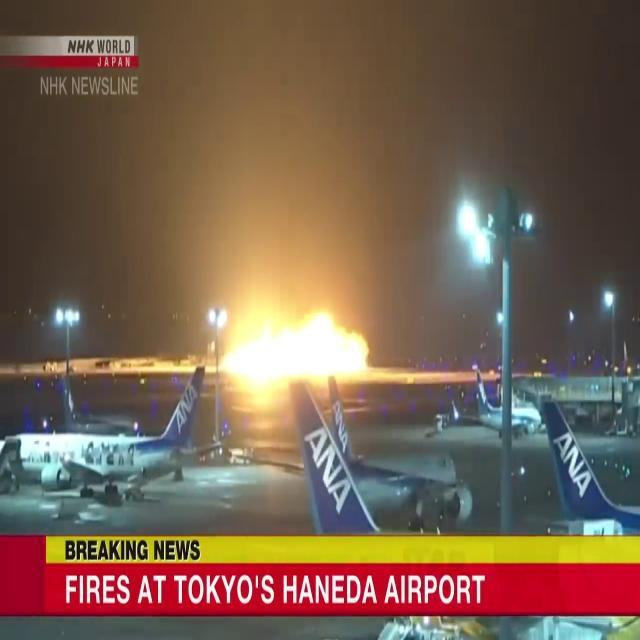Fire: (208, 288, 377, 404)
Smoke: (118, 67, 470, 346)
